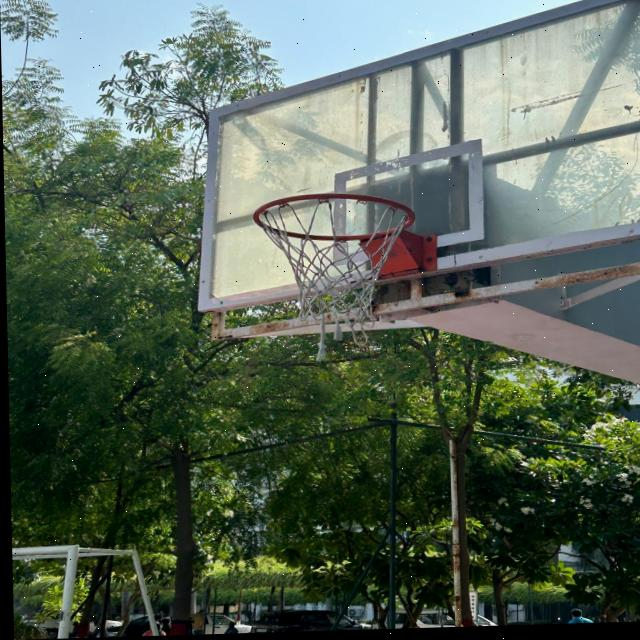hoop: (249, 182, 448, 370)
